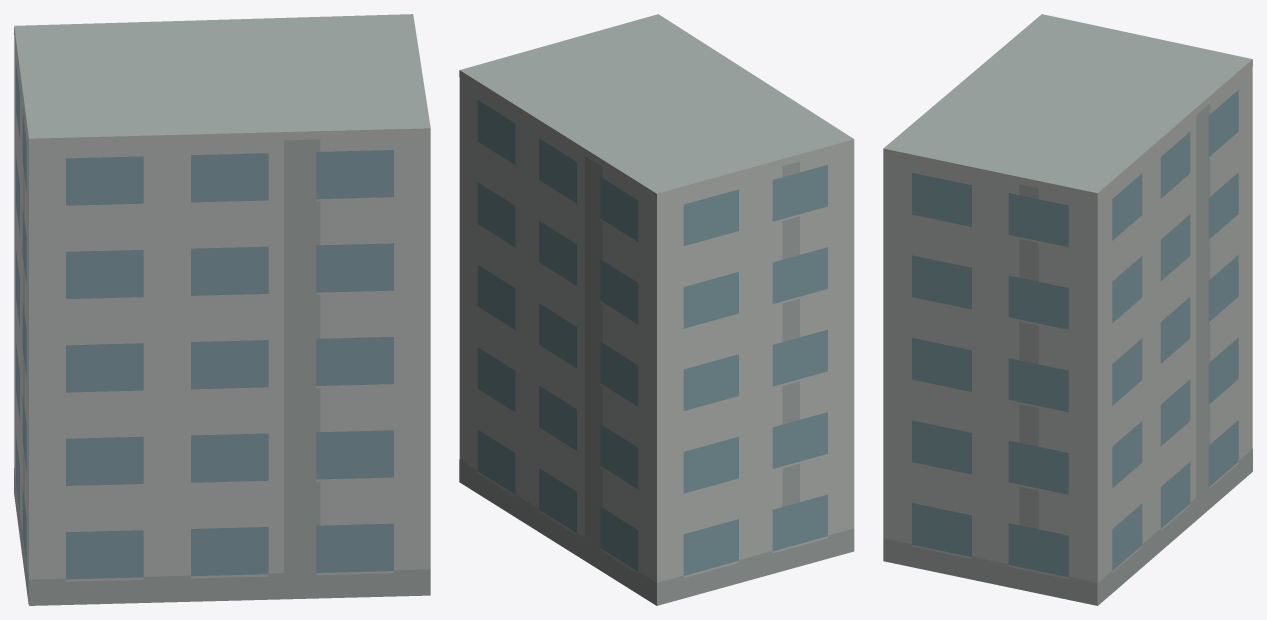
File: survey-upis-32726275.glb
3 views of the same model, side by side, from view 1: azimuth 30°, elevation 25°; view 2: azimuth 150°, elevation 25°; view 3: azimuth 270°, elevation 25° (orthographic). The views are drawn at different scales.
Visible parts, largest first — view 1: survey-upis-32726275.tmp; view 2: survey-upis-32726275.tmp; view 3: survey-upis-32726275.tmp.
Boxes of the visible parts, x1,y1,x2,y2 form: survey-upis-32726275.tmp: (14,14,430,605); survey-upis-32726275.tmp: (459,14,854,605); survey-upis-32726275.tmp: (883,14,1252,605).
Bounding box in the file's own units: 12.77 × 13.7 × 11.13.
